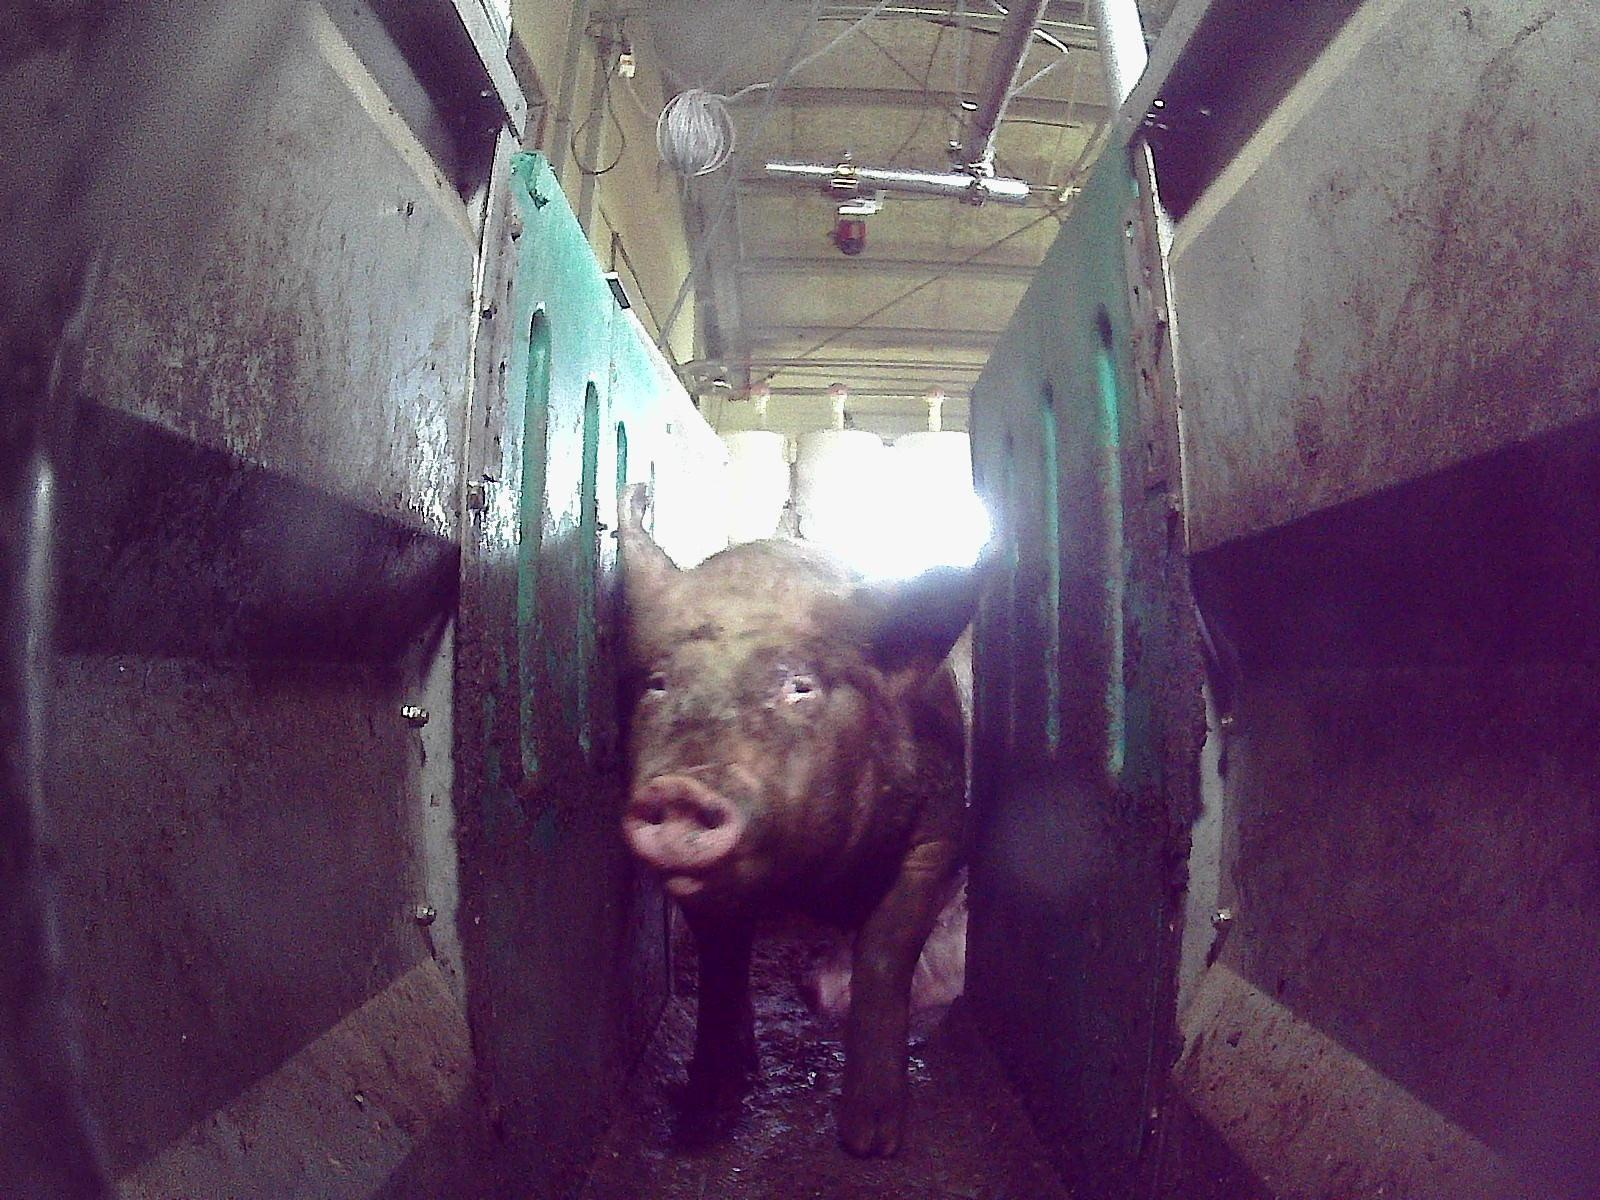Face: (620, 590, 881, 908)
